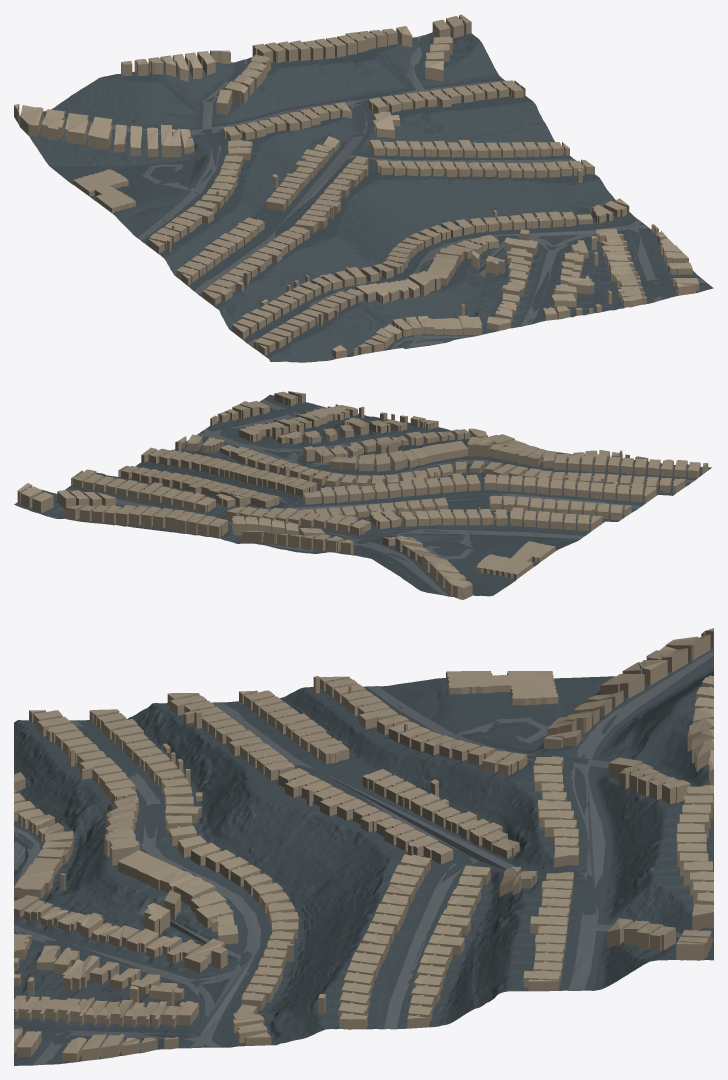
File: epsg26910-1431-10868.lod0.glb
The picture shows the model from 3 angles, top to bottom: view 1: azimuth 30°, elevation 25°; view 2: azimuth 150°, elevation 25°; view 3: azimuth 270°, elevation 25°; orthographic projection. The views are drawn at different scales.
Visible parts, largest first — view 1: epsg26910-1431-10868-lod0; view 2: epsg26910-1431-10868-lod0; view 3: epsg26910-1431-10868-lod0.
Part boxes in pixels (box(x1,y1,x2,y2)): epsg26910-1431-10868-lod0: box(14, 14, 713, 362); epsg26910-1431-10868-lod0: box(14, 391, 711, 599); epsg26910-1431-10868-lod0: box(14, 628, 713, 1065).
Size of the model in its own units: 384 by 100 by 384.
